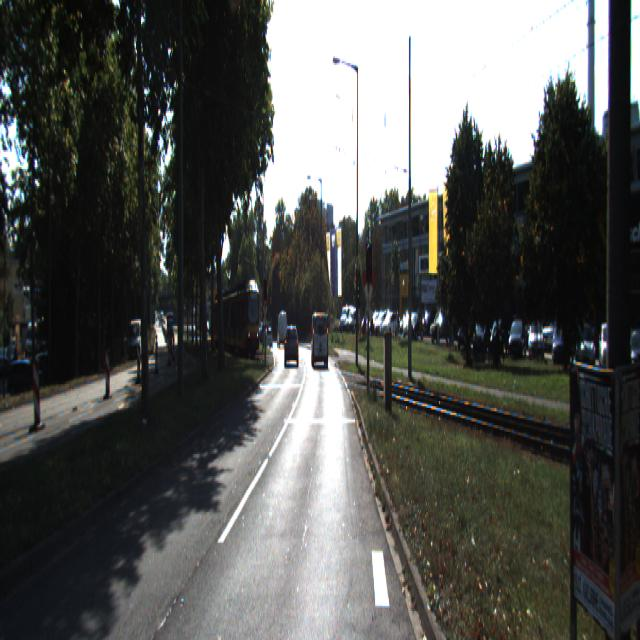Car: (284, 325, 299, 368)
DontCare: (450, 293, 639, 377), (334, 292, 449, 346), (261, 300, 288, 356), (124, 304, 146, 365), (22, 314, 43, 364)
Tram: (218, 283, 260, 356)
Van: (312, 310, 328, 369)
